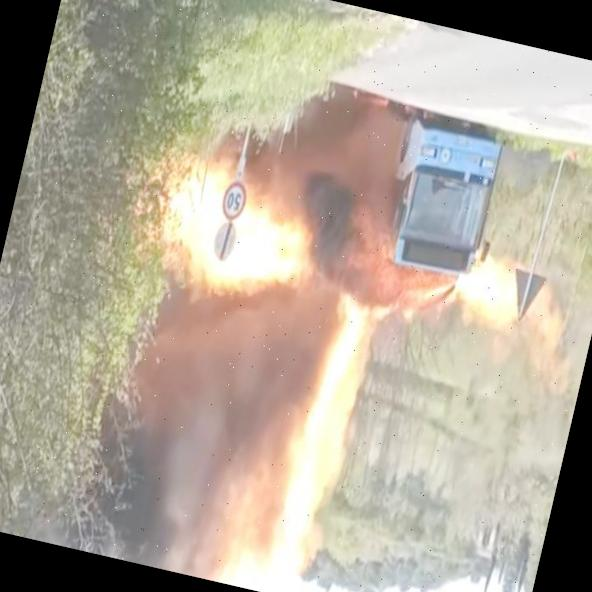smoke: (62, 282, 321, 592), (241, 62, 400, 213)
